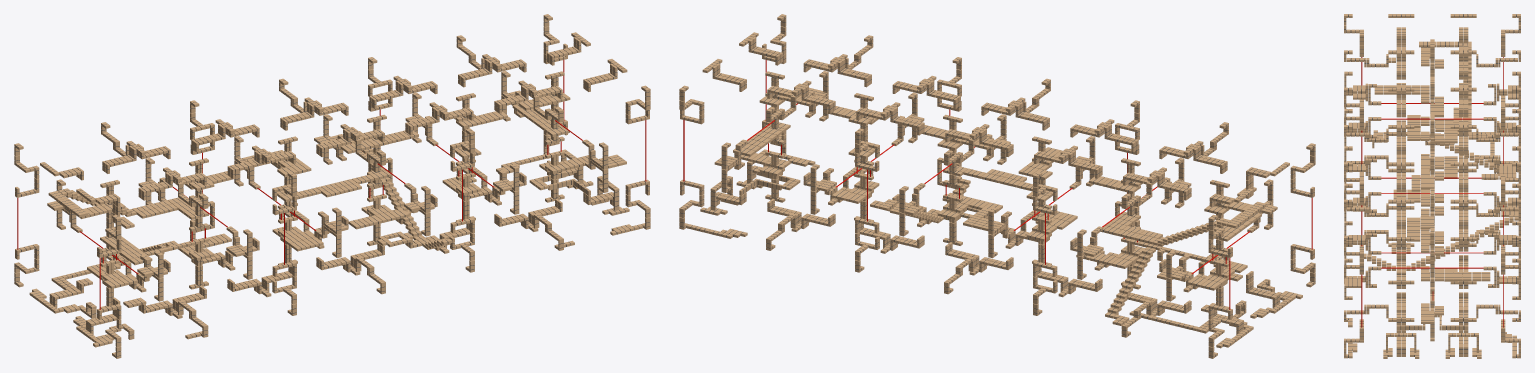
File: scen_II_rozmieszczenie.fbx
The picture shows the model from 3 angles, left to right: view 1: azimuth 30°, elevation 25°; view 2: azimuth 150°, elevation 25°; view 3: azimuth 270°, elevation 25°; orthographic projection. The views are drawn at different scales.
Visible parts, largest first — view 1: el_L_4x_2+4.002; view 2: el_L_4x_2+4.002; view 3: el_L_4x_2+4.006, el_L_4x_2+4.004, el_L_4x_2+4.001, el_L_2x_2+4.038, el_L_2x_2+4.037, el_L_2x_2+4.034, el_L_2x_2+4.033, el_L_2x_2+4.029, el_L_4x_2+4.013, el_L_2x_2+4.030, el_C_2x_3+5+2.006, el_L_2x_2+4.025 (+68 smaller).
Part boxes in pixels (<box>): el_L_4x_2+4.002: <box>14,155,121,347</box>; el_L_4x_2+4.002: <box>1208,156,1315,347</box>; el_L_4x_2+4.006: <box>1346,207,1517,314</box>; el_L_4x_2+4.004: <box>1344,247,1520,348</box>; el_L_4x_2+4.001: <box>1344,99,1520,199</box>; el_L_2x_2+4.038: <box>1396,63,1468,79</box>; el_L_2x_2+4.037: <box>1396,27,1468,43</box>; el_L_2x_2+4.034: <box>1396,101,1468,117</box>; el_L_2x_2+4.033: <box>1396,138,1468,154</box>; el_L_2x_2+4.029: <box>1396,213,1468,229</box>; el_L_4x_2+4.013: <box>1346,58,1517,164</box>; el_L_2x_2+4.030: <box>1396,176,1468,191</box>; el_C_2x_3+5+2.006: <box>1367,304,1497,318</box>; el_L_2x_2+4.025: <box>1396,292,1468,306</box>.
Size of the model in its own units: 2476 by 600 by 800.
